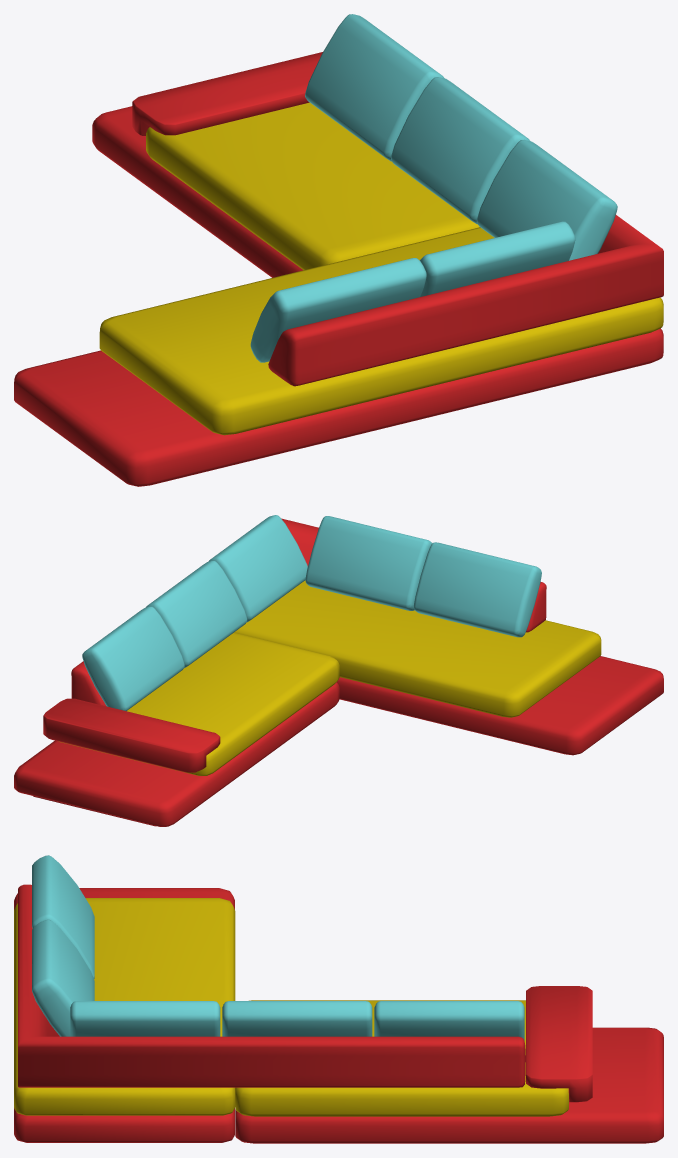
Rendered from MOD_FUR_Sofa_01.fbx.
3 views of the same model, one above another, from view 1: azimuth 30°, elevation 25°; view 2: azimuth 150°, elevation 25°; view 3: azimuth 270°, elevation 25° (orthographic). The views are drawn at different scales.
Visible parts, largest first — view 1: HSHP_MOD_Sofa_01; view 2: HSHP_MOD_Sofa_01; view 3: HSHP_MOD_Sofa_01.
Part boxes in pixels (x1,y1,x2,y2): HSHP_MOD_Sofa_01: [14, 14, 663, 486]; HSHP_MOD_Sofa_01: [14, 515, 663, 826]; HSHP_MOD_Sofa_01: [14, 855, 663, 1143].
Bounding box in the file's own units: 3.29 × 0.8858 × 3.89.
